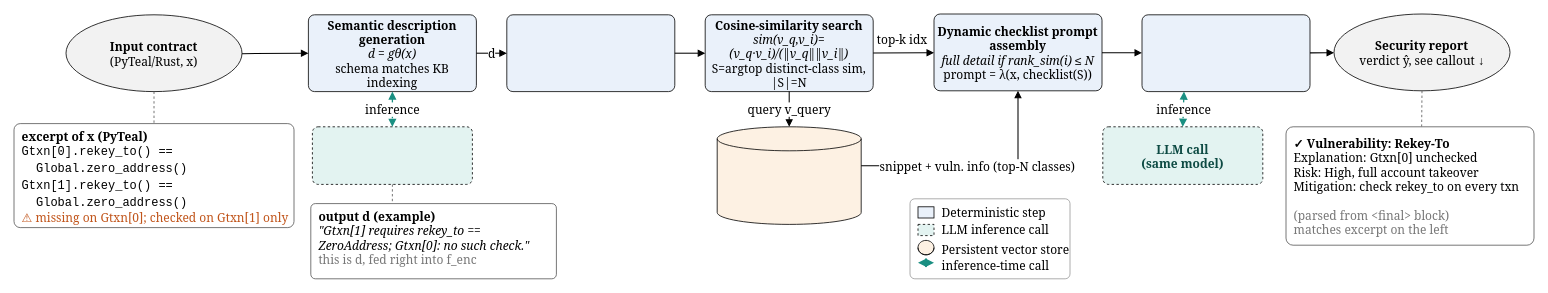
Image size: 1548x293. Some labels were removed from this diagram. The centre of each missing label's shape, as x and y in pixels:
"Audit & verdict generation CoT, then <final> block ŷ~pθ(·|prompt)" goes at point (1225, 53).
"LLM call (shared model)" goes at point (392, 155).
"Query embedding v_query = f_enc(d) ∈ ℝᵈ" goes at point (590, 53).
"Vector KB K={(c_i,v_i)}, i=1..M (vuln. snippets + fields)" goes at point (788, 175).
